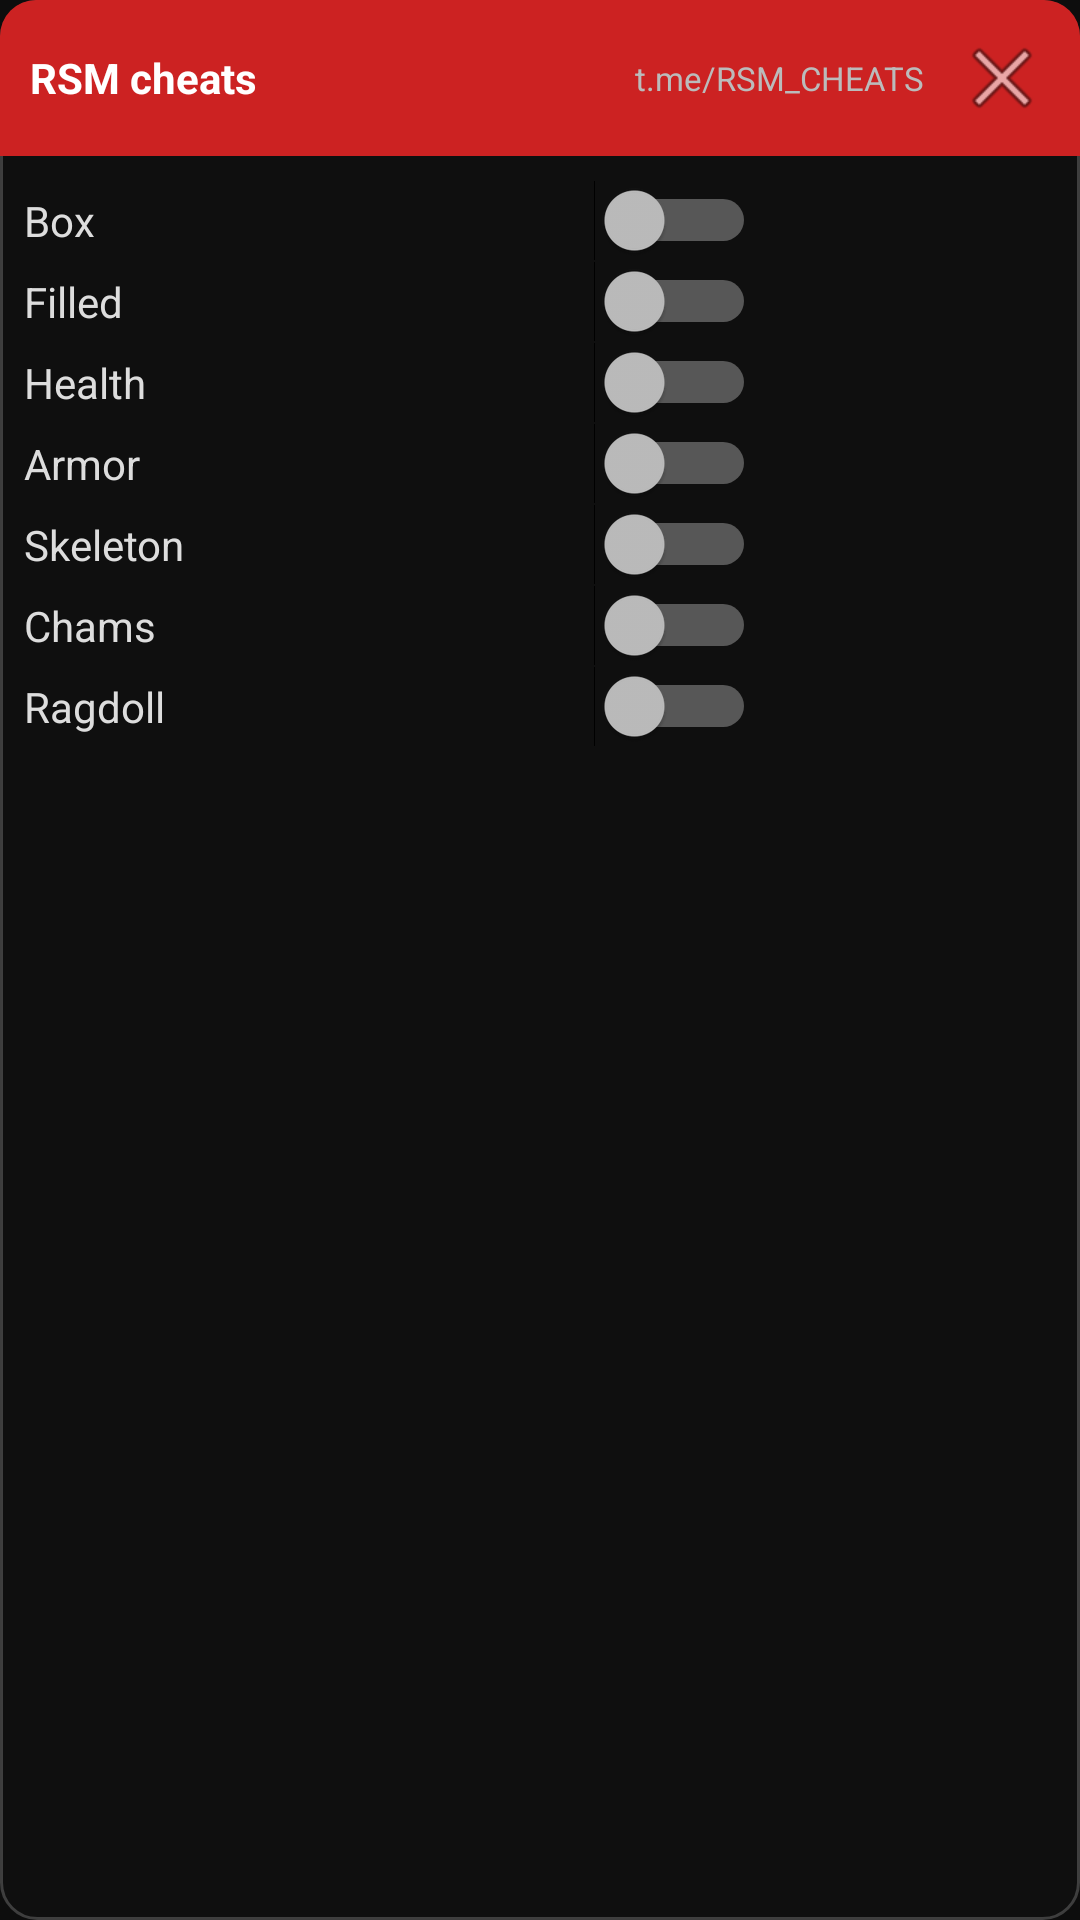

Icons on this 1080 × 1920 Android screen, each with the point to tap as (x=x, y=y):
close clear cancel: (x=1002, y=78)
